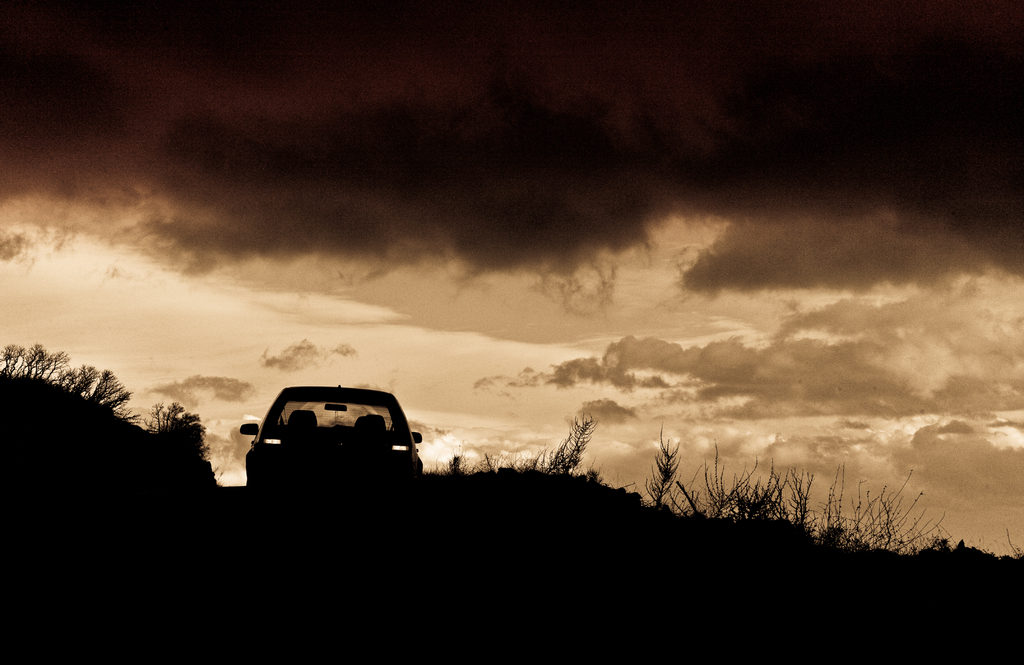Car: (238, 384, 426, 488)
